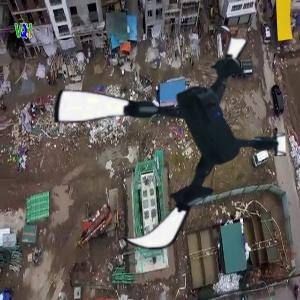drone: (54, 21, 287, 254)
